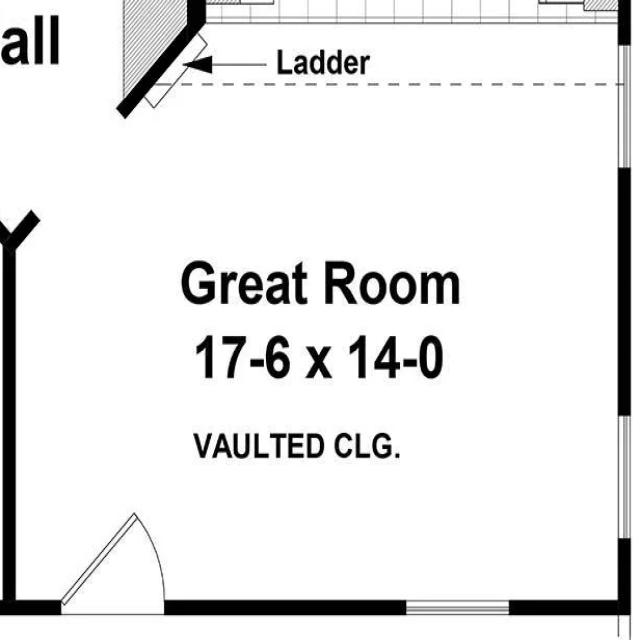Doors: (56, 510, 170, 628)
